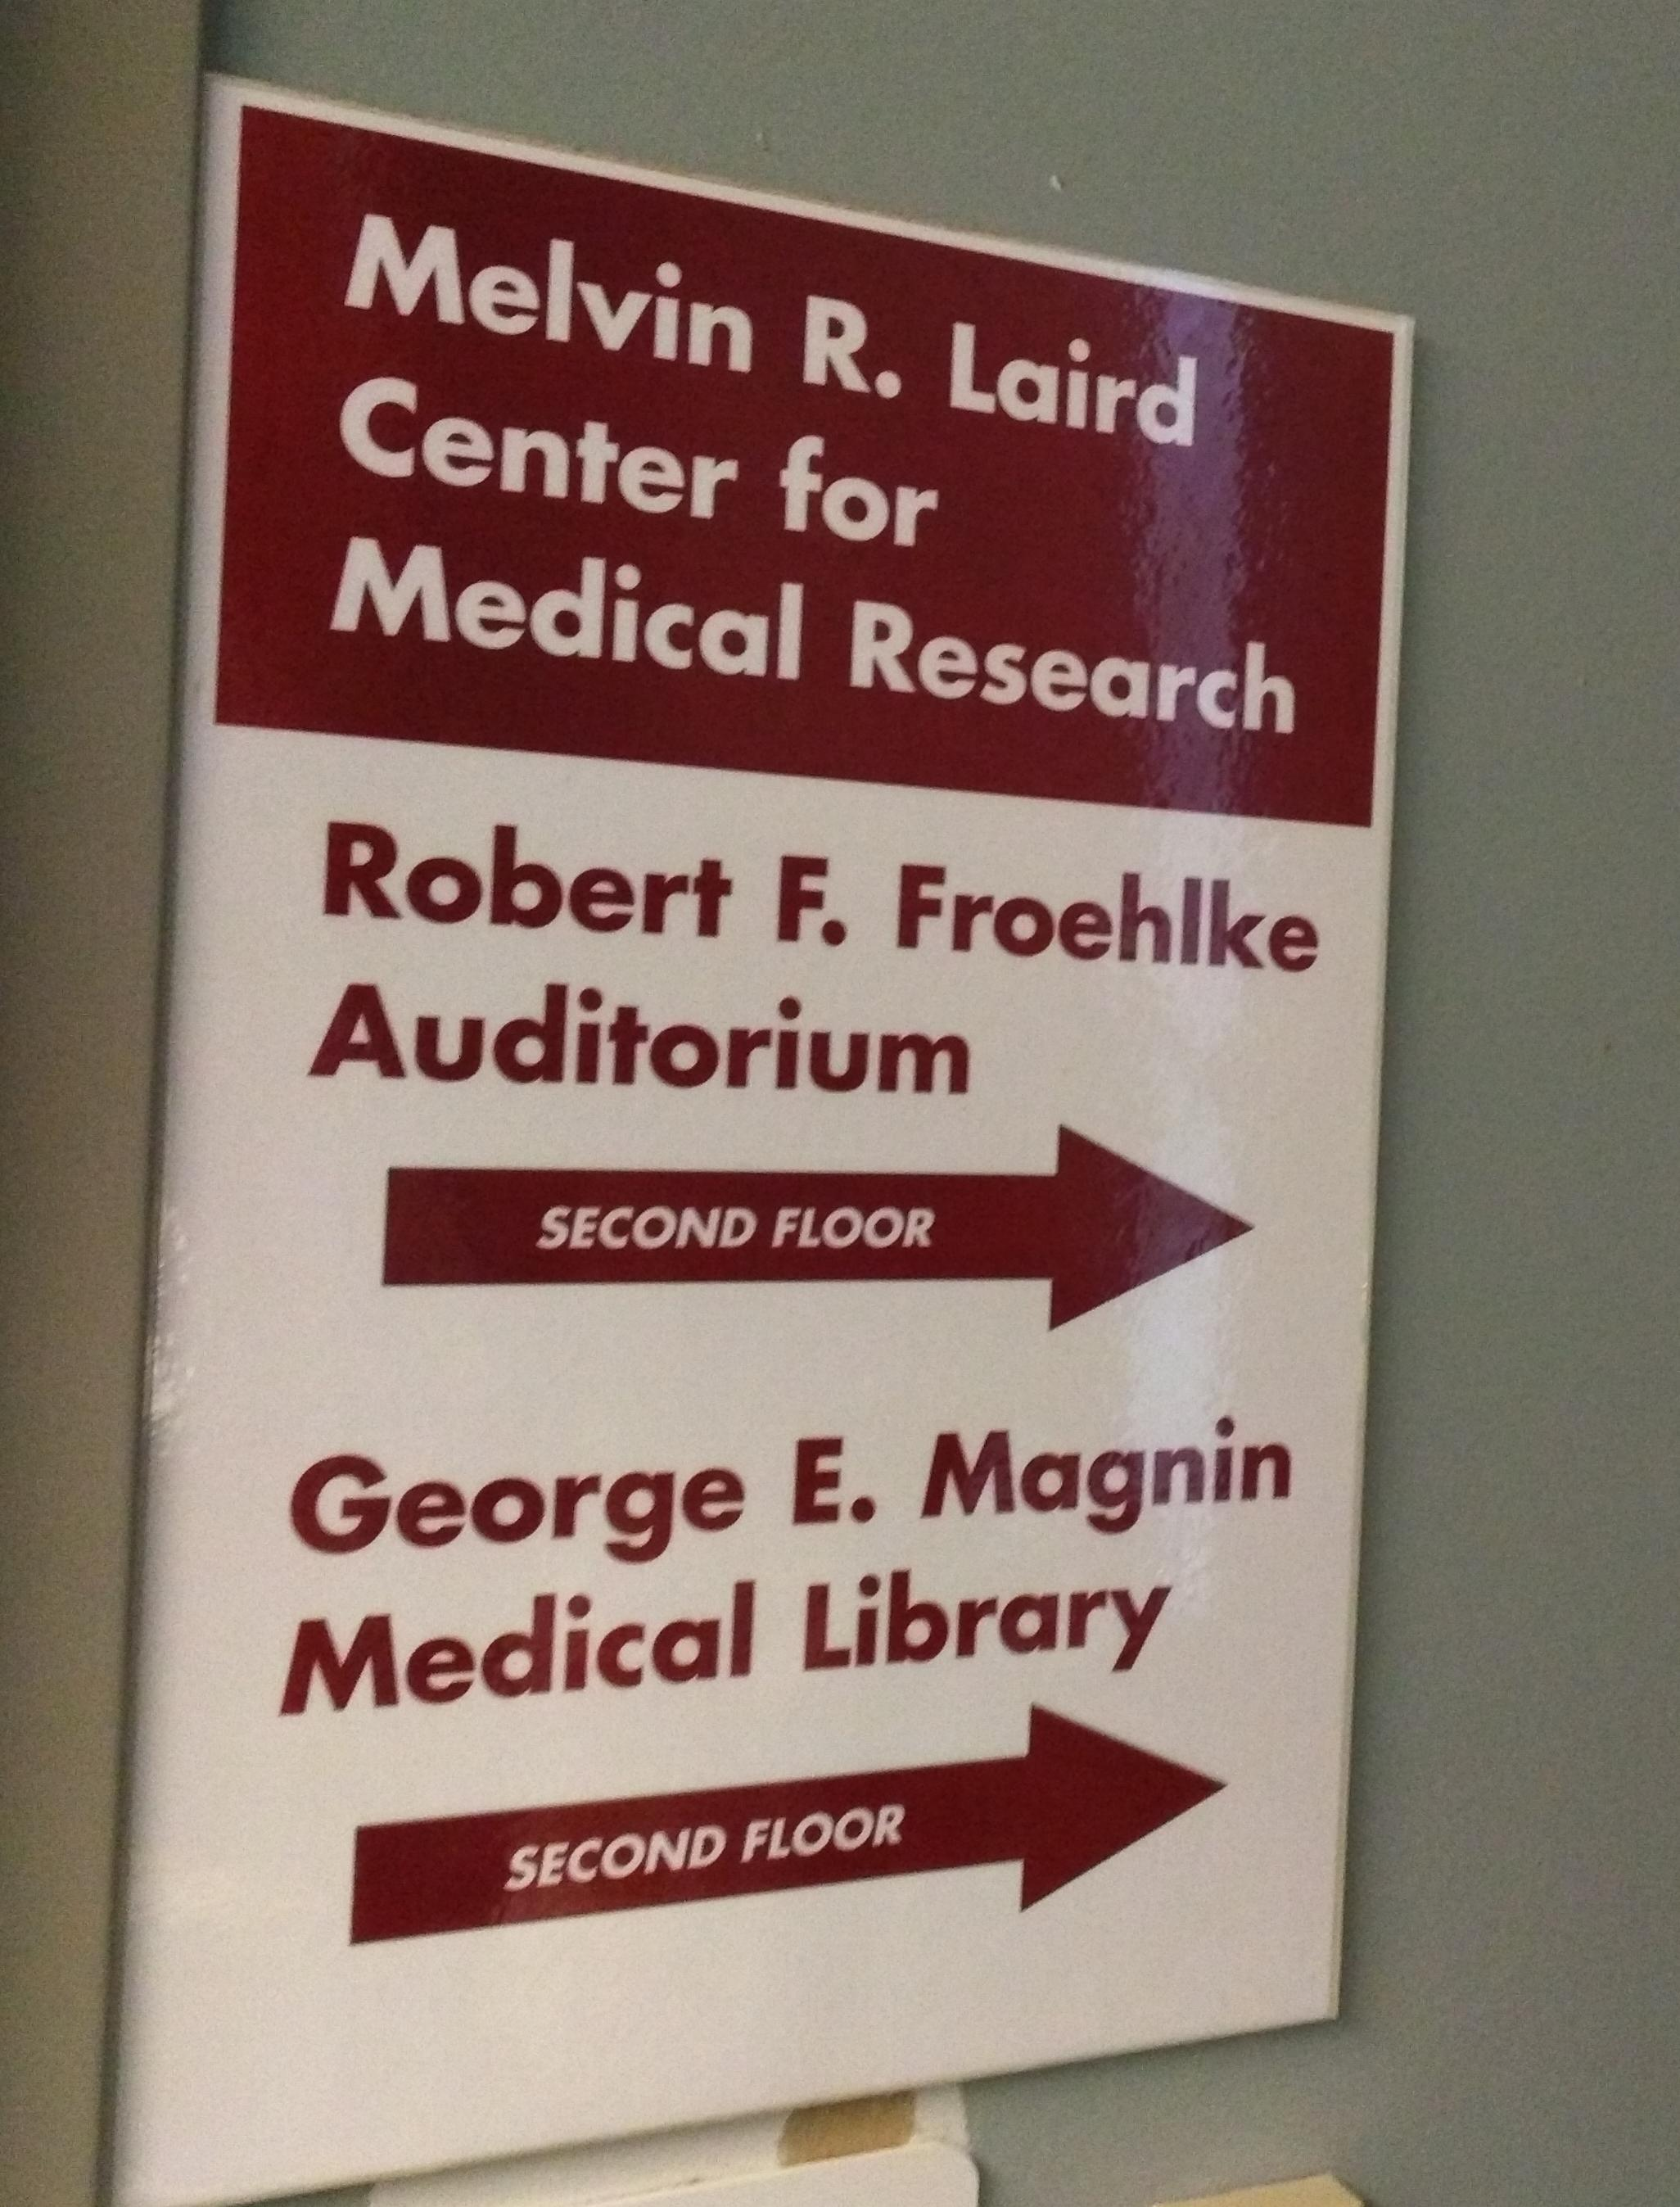sign: (109, 67, 1419, 2207)
